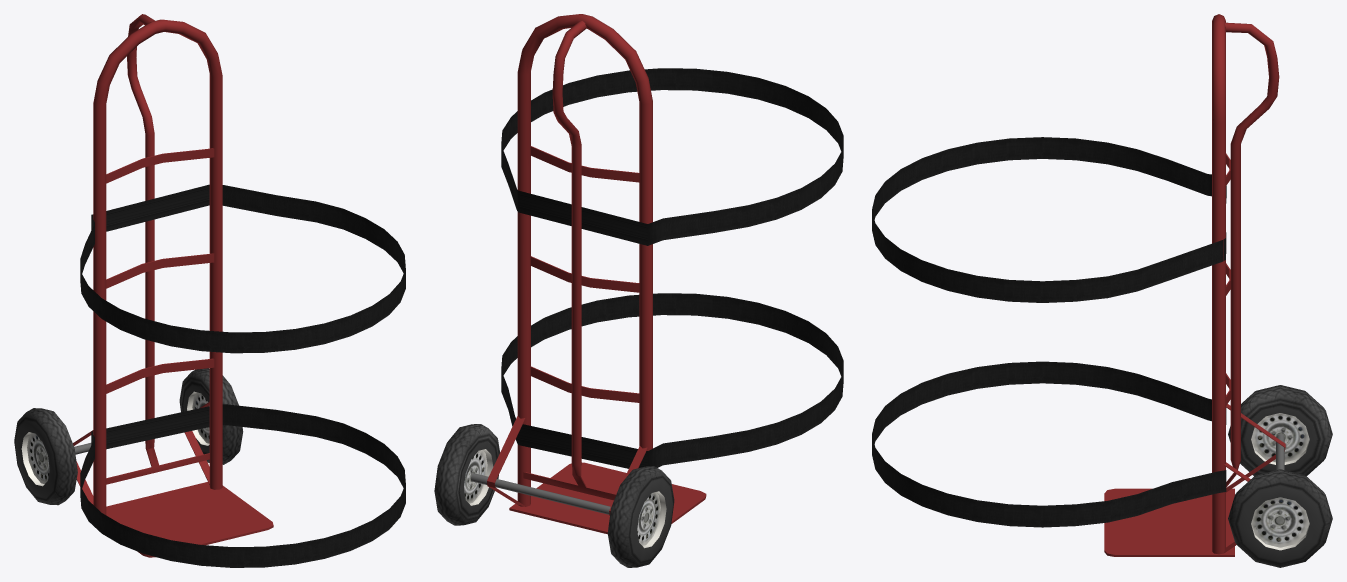
File: AAAADOLLY REF.fbx
3 renders of one model, left to right at view 1: azimuth 30°, elevation 25°; view 2: azimuth 150°, elevation 25°; view 3: azimuth 270°, elevation 25°, orthographic. The views are drawn at different scales.
Visible parts, largest first — view 1: Handtruck_bottom; view 2: Handtruck_bottom; view 3: Handtruck_bottom.
Boxes of the visible parts, x1,y1,x2,y2 form: Handtruck_bottom: [14, 14, 405, 567]; Handtruck_bottom: [434, 14, 843, 567]; Handtruck_bottom: [872, 14, 1332, 567].
Size of the model in its own units: 0.4854 by 0.7922 by 0.6556.
